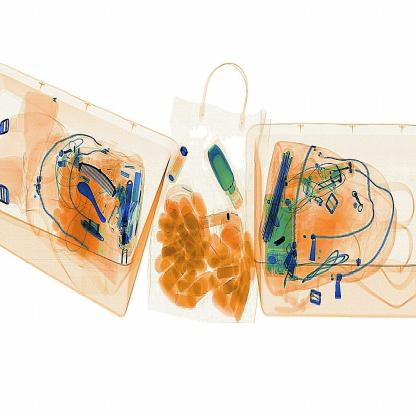knife: (273, 231, 292, 254)
